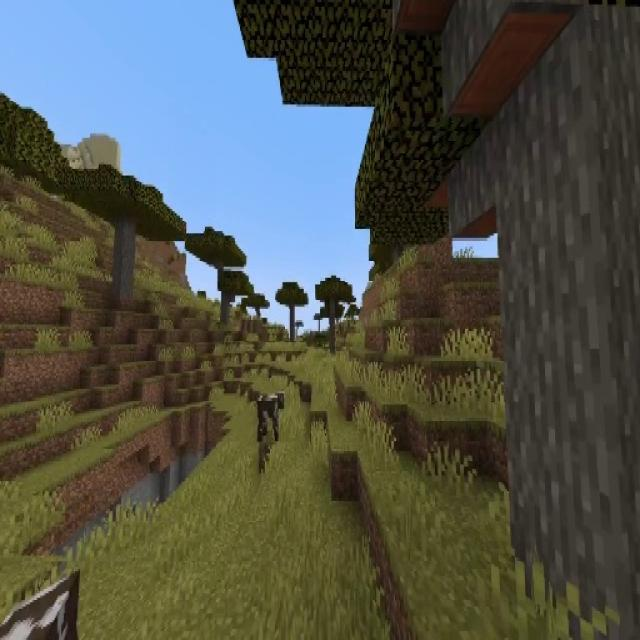acacia: (58, 165, 186, 296), (184, 226, 250, 322), (276, 280, 308, 339)
acacia_log: (482, 7, 640, 640), (114, 221, 136, 301)
